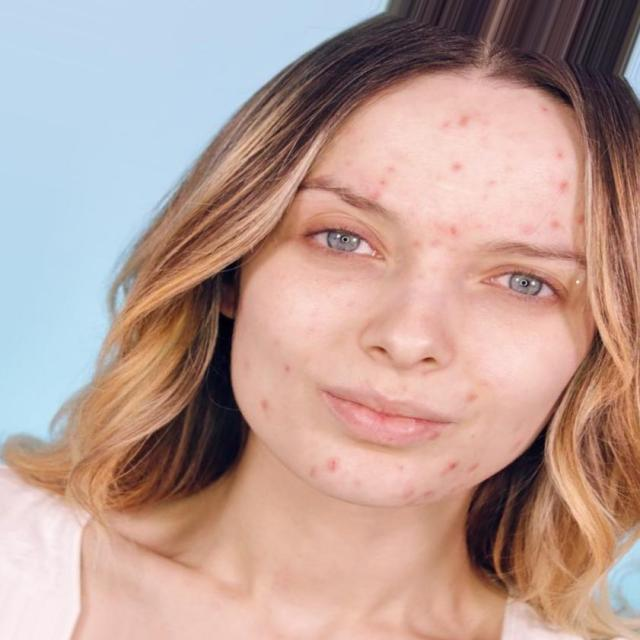Acne: (471, 172, 514, 218), (432, 107, 491, 139), (306, 458, 358, 486), (443, 459, 498, 483), (442, 150, 484, 180), (545, 209, 587, 239), (361, 179, 417, 201), (402, 489, 453, 513), (530, 99, 570, 129), (368, 156, 410, 184), (542, 145, 593, 167), (457, 383, 496, 410), (544, 178, 587, 202), (430, 221, 465, 248), (511, 213, 541, 244), (252, 388, 278, 421), (275, 359, 308, 384), (418, 426, 456, 446), (509, 441, 540, 458), (235, 355, 267, 371), (339, 151, 365, 168)
